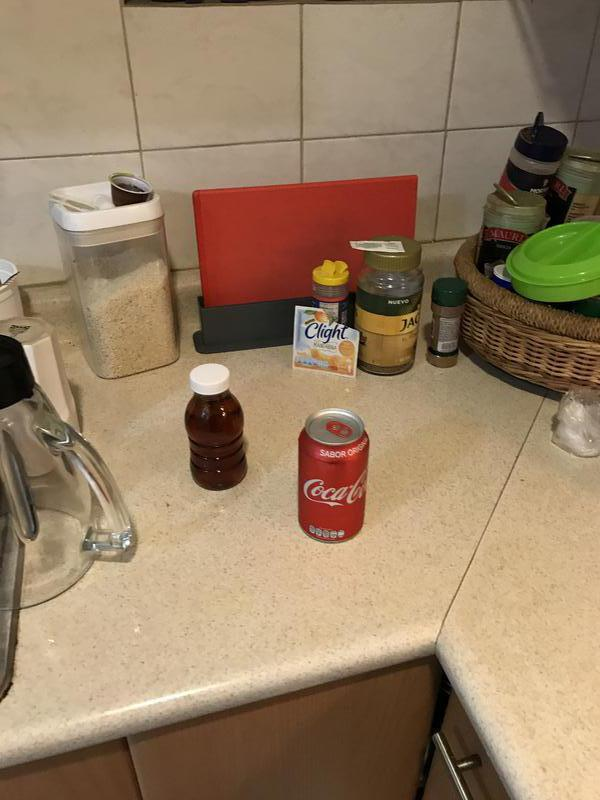coca_cola: (299, 413, 367, 544)
